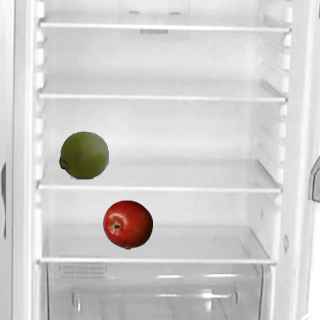Apple Braeburn: (102, 199, 152, 249)
Grape White 4: (58, 129, 108, 179)
